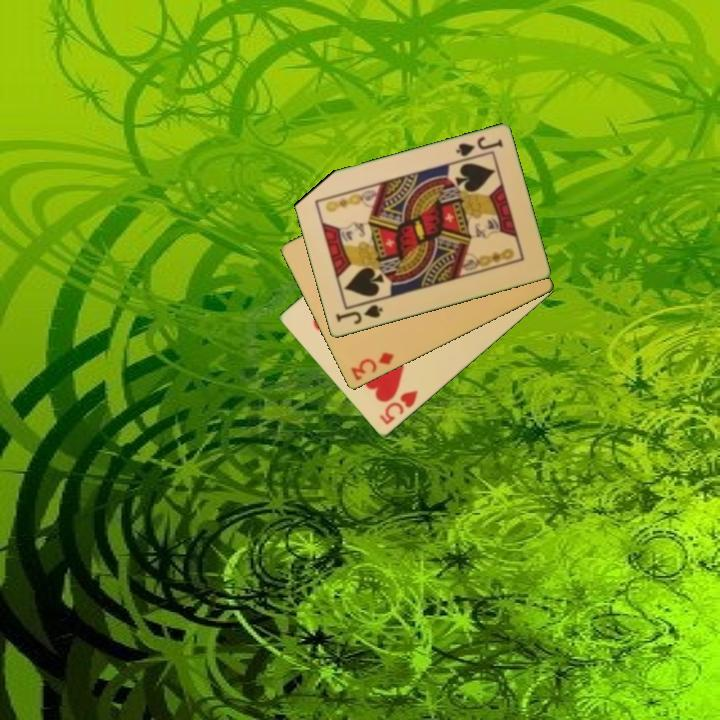3d: (346, 349, 397, 384)
5h: (375, 387, 421, 428)
Js: (332, 301, 386, 328), (452, 133, 505, 160)
